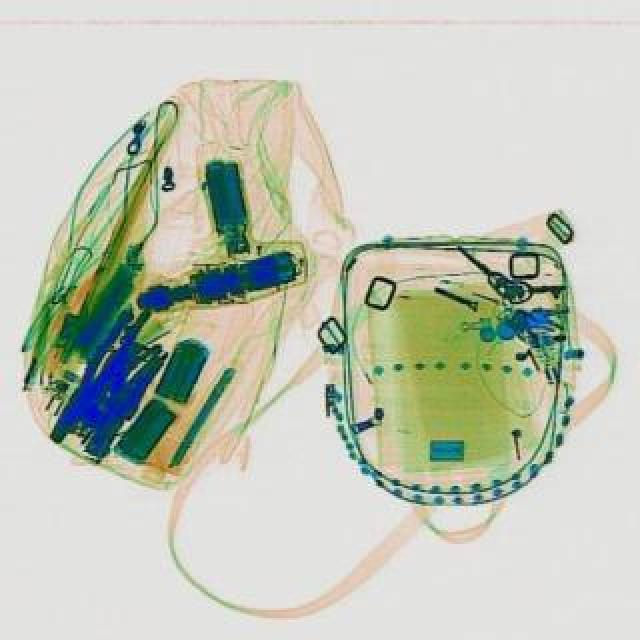wrench: (54, 298, 154, 426)
